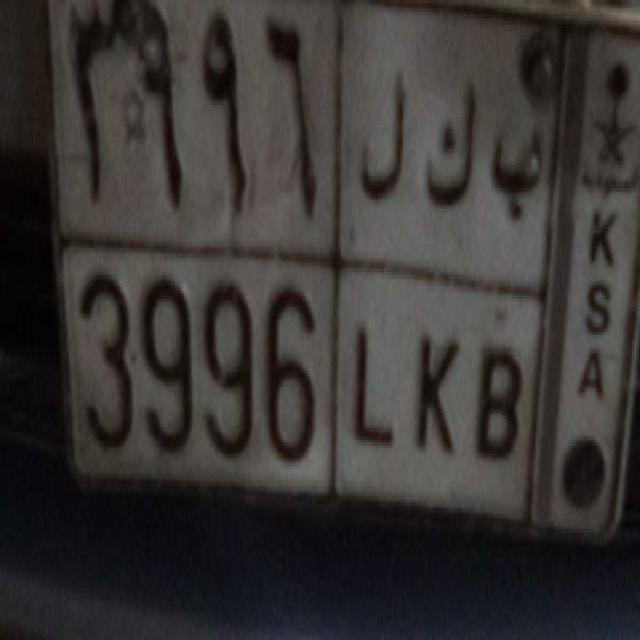license_plate: (72, 228, 531, 495)
